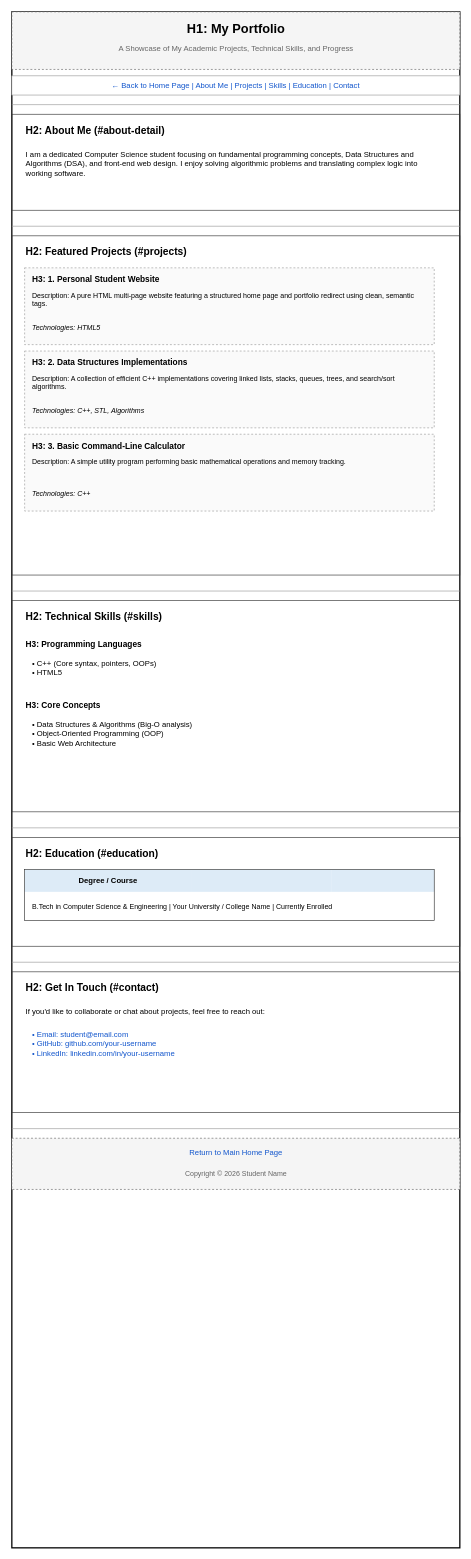
The diagram is 471 pixels wide and 1559 high, and some of its shapes have lost their labels. Here are the shapes that lost their labels. From the top down, the centre of each, then its label:
At (261,880): "Institution".
At (383,880): "Status".
